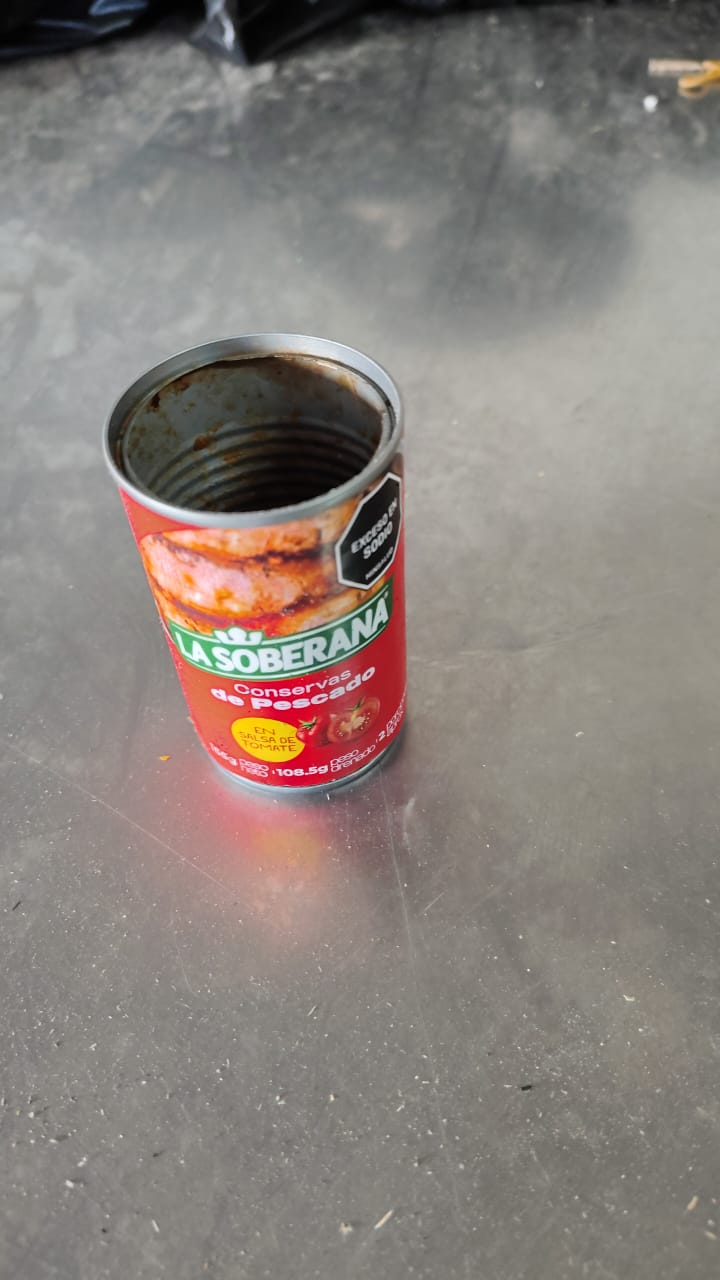Metal: (104, 334, 405, 789)
